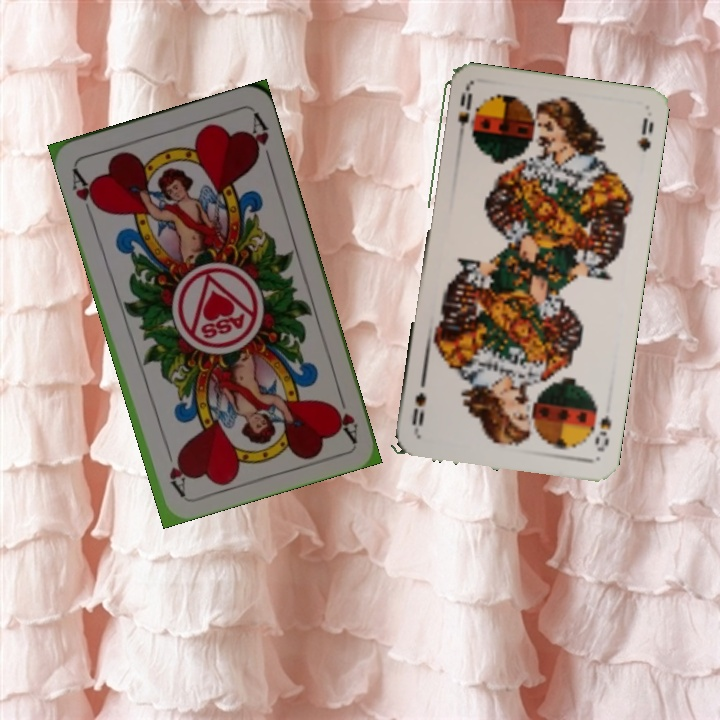HA: (68, 164, 103, 220), (327, 386, 360, 444)
SO: (453, 87, 475, 146), (590, 410, 614, 454)
